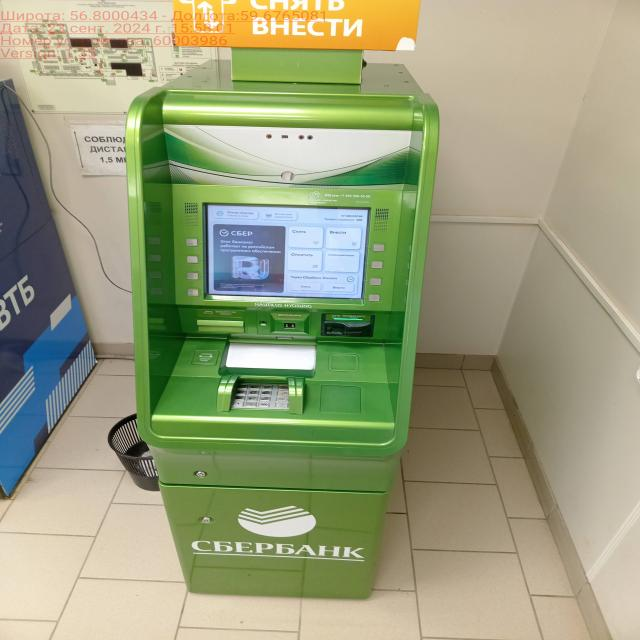bank: (119, 44, 440, 600)
